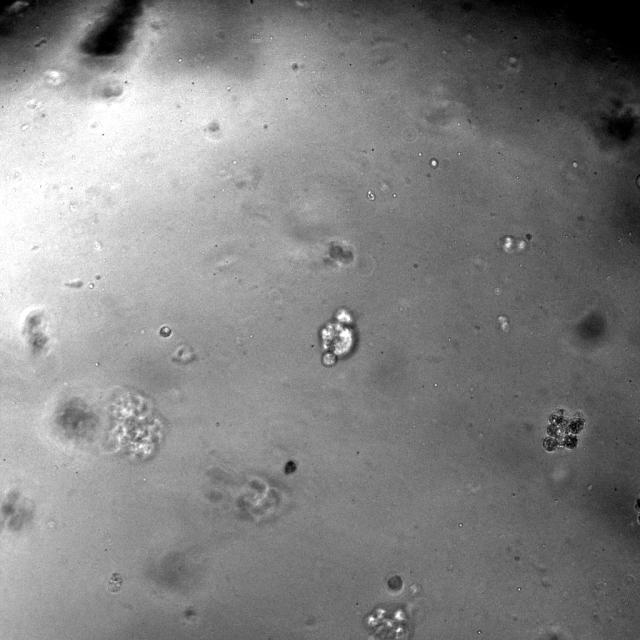organoid: (40, 379, 170, 467), (205, 469, 284, 524), (319, 309, 358, 366), (542, 408, 585, 452), (20, 306, 52, 356), (0, 488, 34, 531), (366, 607, 409, 639), (323, 240, 354, 266), (499, 235, 527, 252), (387, 574, 402, 591), (158, 325, 172, 338)
